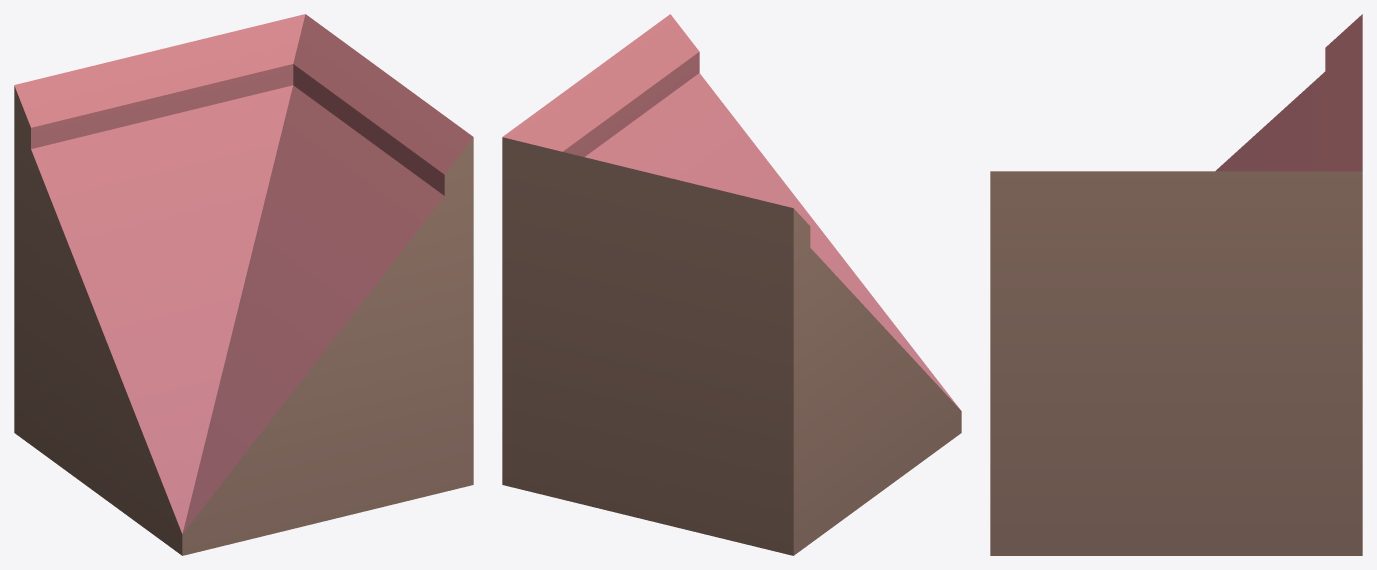
File: roof-high-cornerinner.glb
3 views of the same model, side by side, from view 1: azimuth 30°, elevation 25°; view 2: azimuth 150°, elevation 25°; view 3: azimuth 270°, elevation 25° (orthographic). The views are drawn at different scales.
Visible parts, largest first — view 1: roof-high-cornerinner; view 2: roof-high-cornerinner; view 3: roof-high-cornerinner.
Boxes of the visible parts, box(x1,y1,x2,y2) form: roof-high-cornerinner: box(14, 14, 473, 555); roof-high-cornerinner: box(502, 14, 961, 555); roof-high-cornerinner: box(990, 14, 1362, 555).
Bounding box in the file's own units: 1 × 1.14 × 1.
